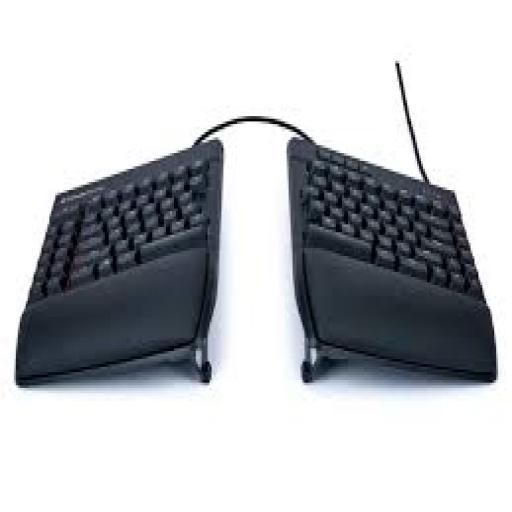keyboard: (18, 143, 221, 383), (289, 143, 494, 380)
